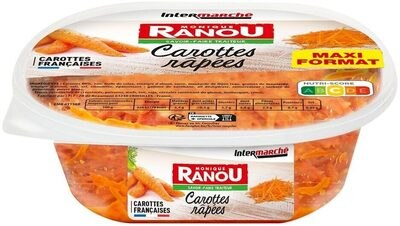Carottes: (20, 11, 380, 215)
